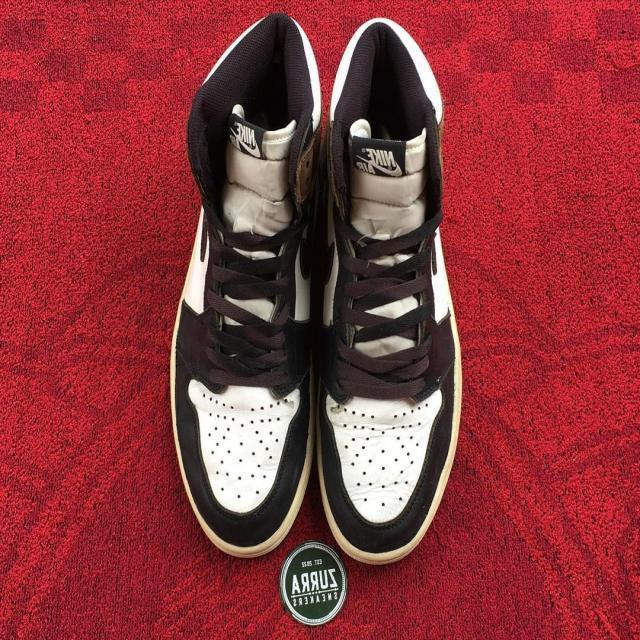nike original jordan 1: (163, 10, 320, 572), (315, 6, 465, 562)
